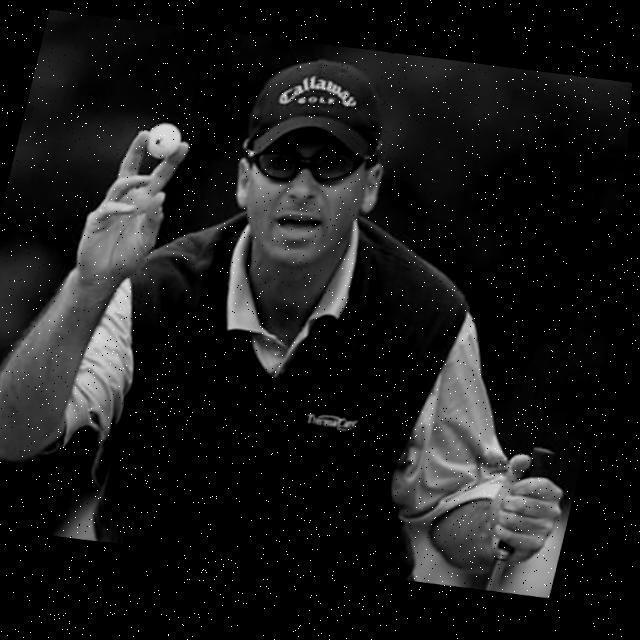face: (220, 110, 412, 279)
